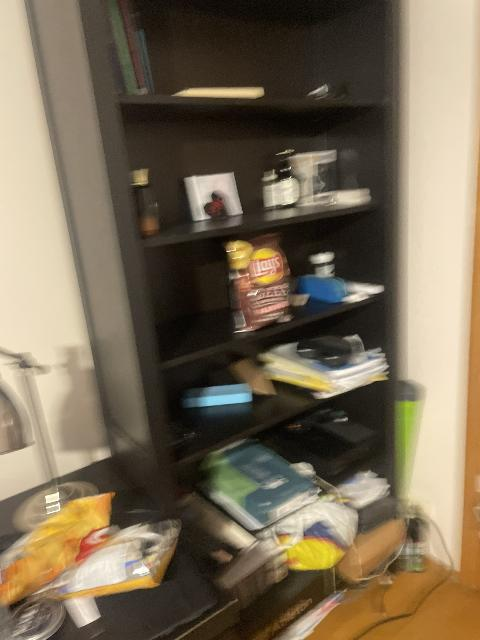Chio Hula Hoops Cheese 70g: (42, 520, 178, 603)
Lays Beef Grilled Ribs 125g: (223, 232, 294, 331)
